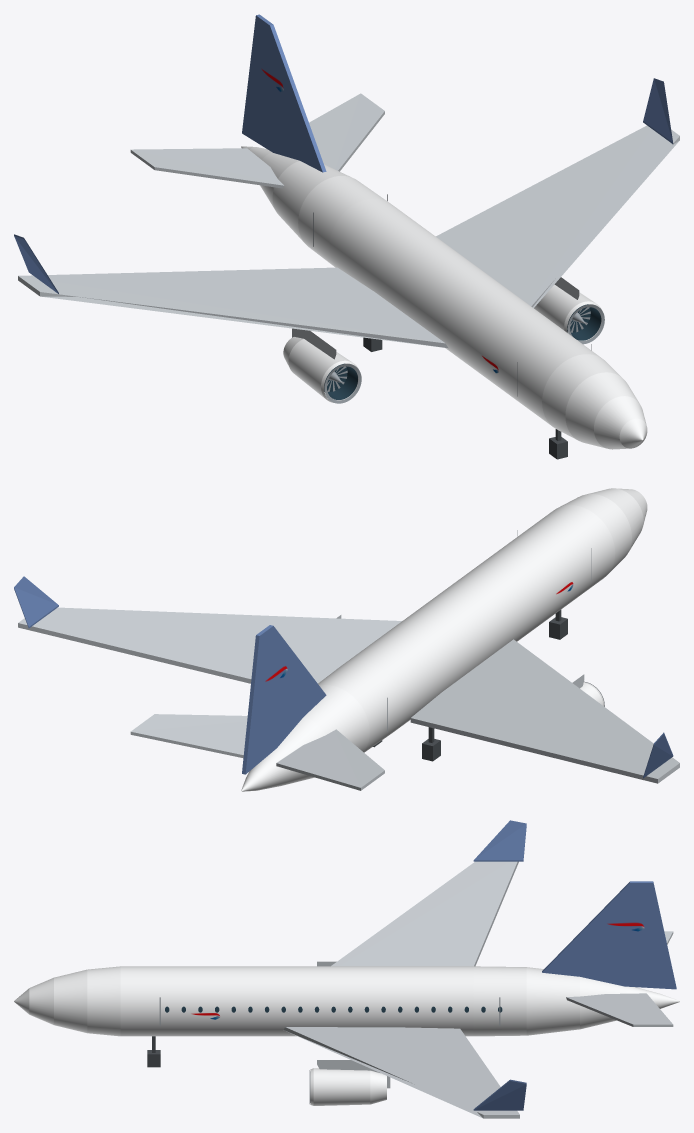
The model's file is a320-BAW-v2.gltf.
3 views of the same model, one above another, from view 1: azimuth 30°, elevation 25°; view 2: azimuth 150°, elevation 25°; view 3: azimuth 270°, elevation 25° (orthographic). The views are drawn at different scales.
Parts seen in each view (by area): view 1: object 1, Gear; view 2: object 1, Gear; view 3: object 1.
Boxes of the visible parts, x1,y1,x2,y2 form: object 1: [14, 14, 679, 449]; Gear: [363, 337, 567, 459]; object 1: [14, 488, 679, 791]; Gear: [373, 610, 567, 761]; object 1: [14, 820, 679, 1118].
Size of the model in its own units: 35 by 11.51 by 38.
Materials: 7 (1 with a texture image).
